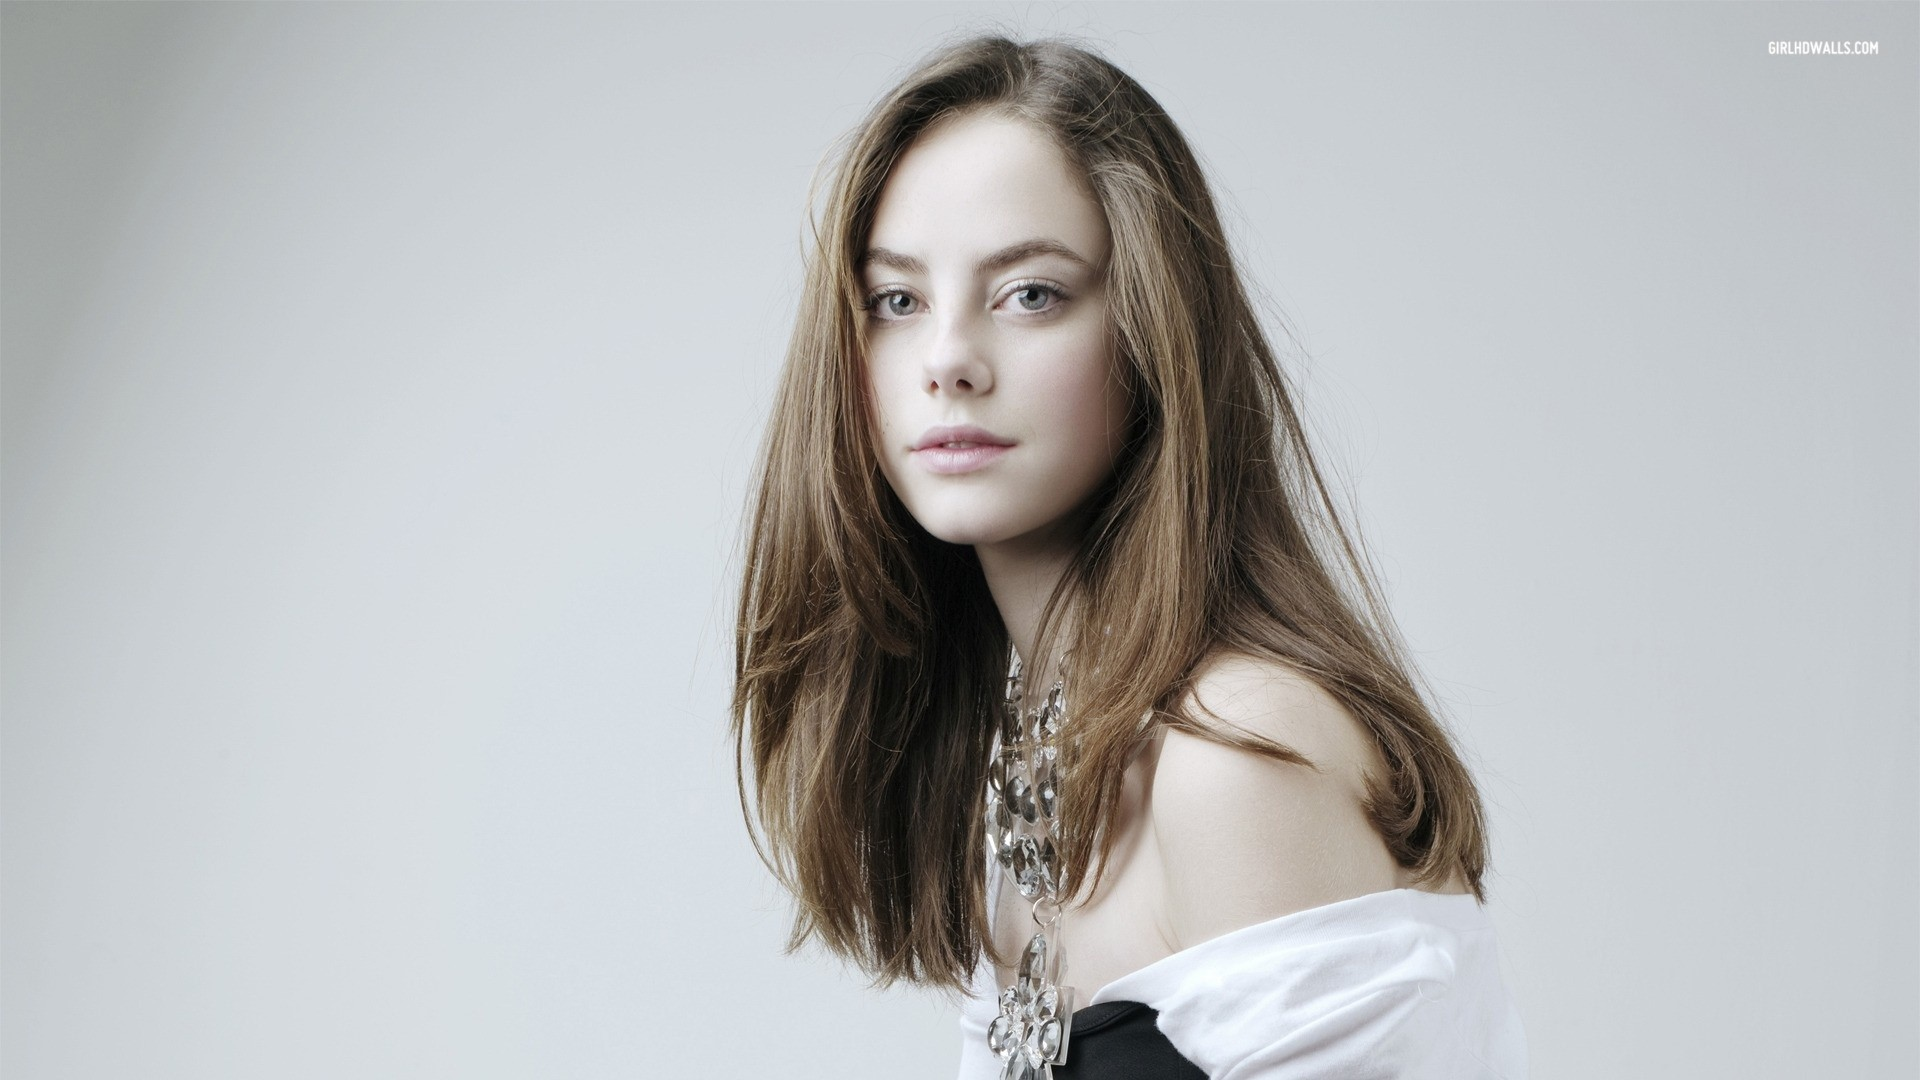face_no_mask: (819, 36, 1214, 558)
